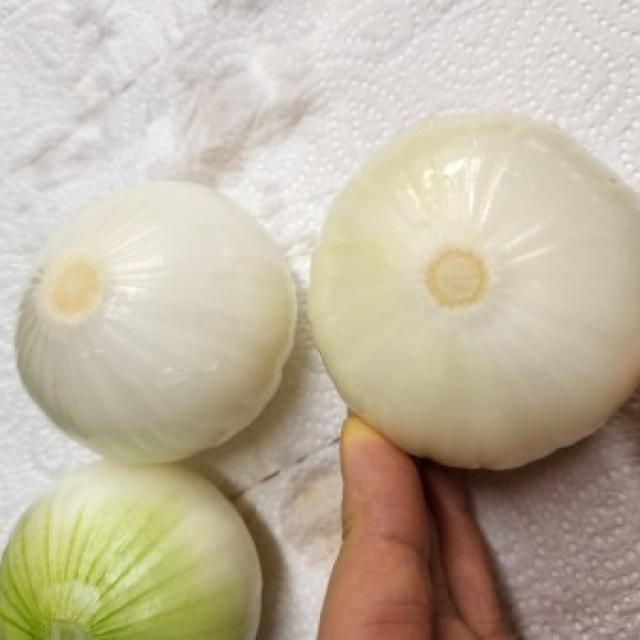onion: (309, 115, 639, 451), (17, 171, 305, 449), (1, 465, 274, 640)
